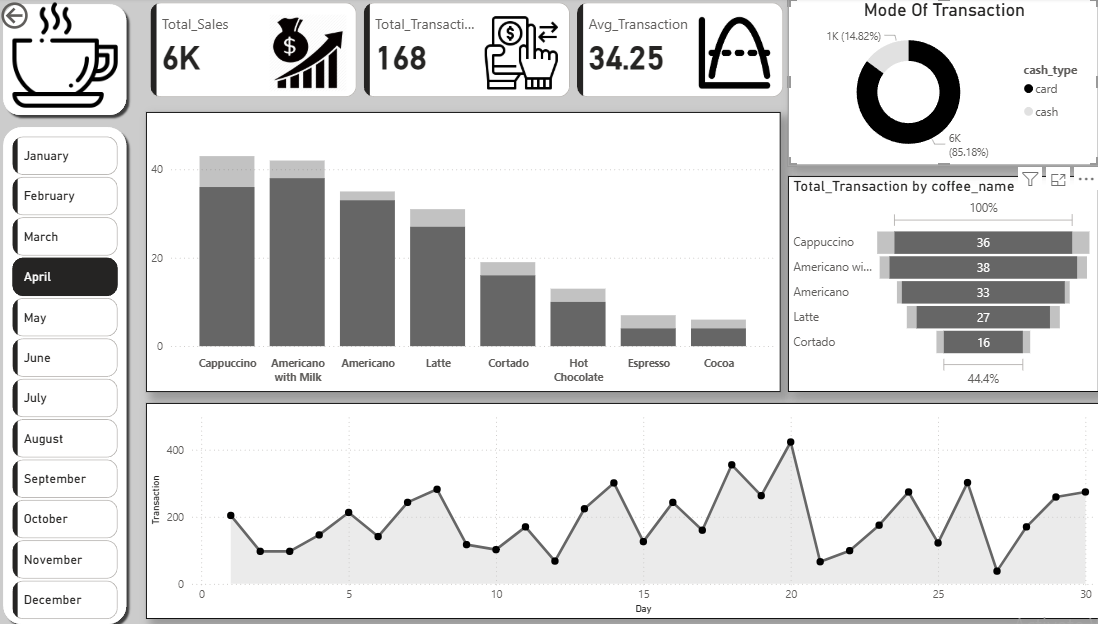

What the dashboard file says about the page in this screenshot:
{"tool":"powerbi","page":{"name":"Page 1","canvas":[1280,720],"ordinal":0},"visuals":[{"type":"shape","box":[0,0,154.3,140.2],"z":0},{"type":"image","box":[12.7,0,130,130],"z":1000},{"type":"shape","box":[0,140.2,154.3,580.1],"z":2000},{"type":"advancedSlicerVisual","fields":{"Values":["index.date.Variation.Date Hierarchy.Month"]},"box":[12.7,153,130,567.3],"z":3000},{"type":"actionButton","box":[0,0,100,40],"z":4000},{"type":"cardVisual","fields":{"Data":["index.Total","index.Total_Transaction","index.Average_Transaction"]},"box":[169.6,0,731.8,118.6],"z":4001},{"type":"columnChart","fields":{"Category":["index.coffee_name"],"Y":["index.Total_Transaction"]},"box":[169.6,130,722.9,318.7],"z":4002},{"type":"donutChart","title":"Mode Of Transaction","fields":{"Category":["index.cash_type"],"Y":["index.Total"]},"box":[901.4,0,354.4,191.2],"z":4003},{"type":"funnel","fields":{"Y":["index.Total_Transaction"],"Category":["index.coffee_name"]},"box":[901.4,202.7,354.4,246.1],"z":4004},{"type":"lineChart","fields":{"Category":["index.date.Variation.Date Hierarchy.Day"],"Y":["index.Total"]},"box":[169.6,461.5,1086.2,246.1],"z":4005}]}

Visuals, with their boxes in screenshot pixels (x1, y1, x2, y2), scaled from the page's 1280x720 canvas onto the 1098x624 screenshot:
shape: x1=0, y1=0, x2=132, y2=122
image: x1=11, y1=0, x2=122, y2=113
shape: x1=0, y1=122, x2=132, y2=623
advancedSlicerVisual - index.date.Variation.Date Hierarchy.Month: x1=11, y1=133, x2=122, y2=623
actionButton: x1=0, y1=0, x2=86, y2=35
cardVisual - index.Total x index.Total_Transaction: x1=145, y1=0, x2=773, y2=103
columnChart - index.coffee_name x index.Total_Transaction: x1=145, y1=113, x2=766, y2=389
"Mode Of Transaction" donutChart: x1=773, y1=0, x2=1077, y2=166
funnel - index.Total_Transaction x index.coffee_name: x1=773, y1=176, x2=1077, y2=389
lineChart - index.date.Variation.Date Hierarchy.Day x index.Total: x1=145, y1=400, x2=1077, y2=613
